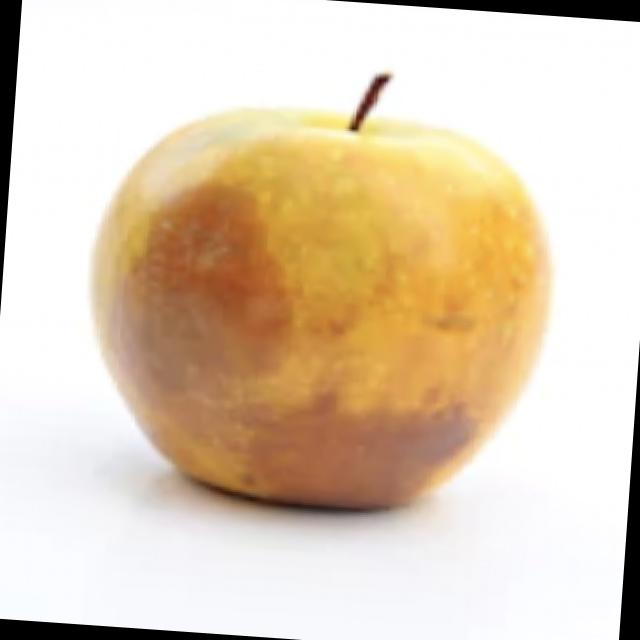rotten_apple: (72, 62, 566, 530)
